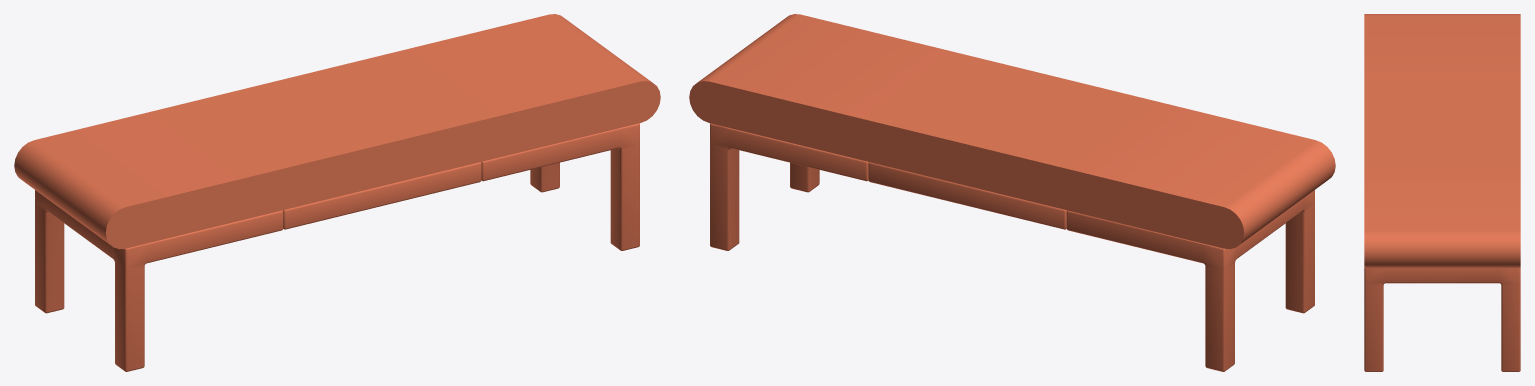
3 views of the same model, side by side, from view 1: azimuth 30°, elevation 25°; view 2: azimuth 150°, elevation 25°; view 3: azimuth 270°, elevation 25° (orthographic). The views are drawn at different scales.
Parts seen in each view (by area): view 1: 履带2; view 2: 履带2; view 3: 履带2.
Boxes of the visible parts, box(x1,y1,x2,y2) form: 履带2: box(14, 14, 660, 371); 履带2: box(689, 14, 1335, 371); 履带2: box(1364, 14, 1520, 371).
Size of the model in its own units: 280 by 80 by 80.
